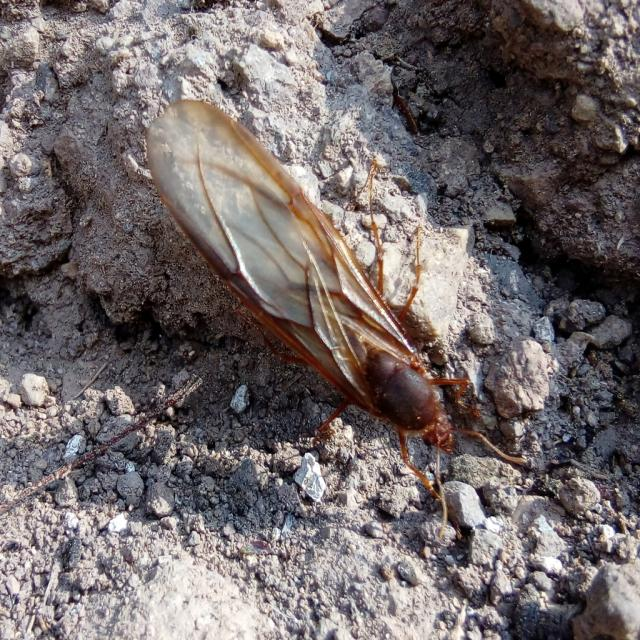Alive-Male-Alate: (146, 99, 528, 539)
